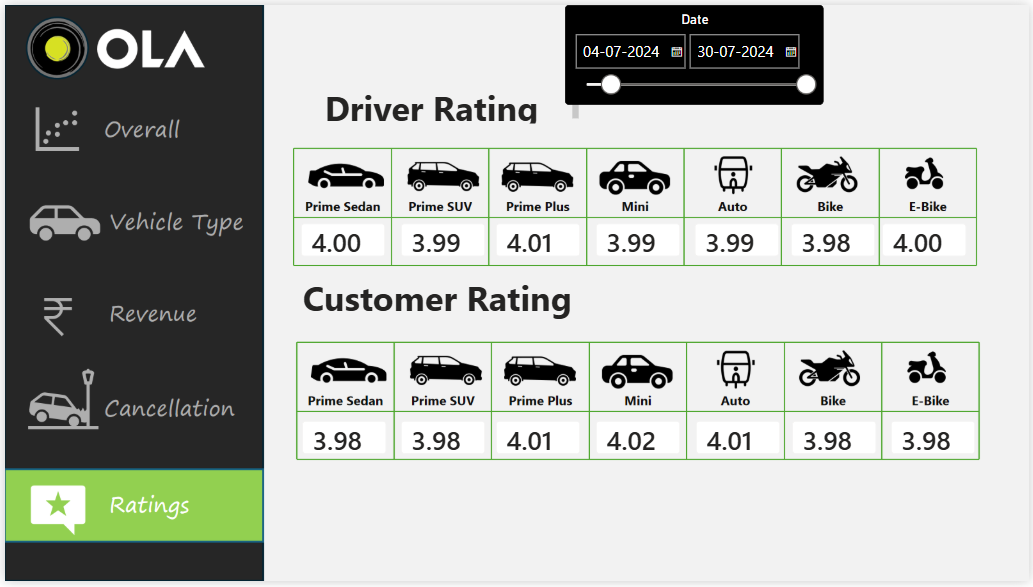

Layout of this report page (visuals, bound fields, positions):
{"tool":"powerbi","page":{"name":"Ratings","canvas":[1280,720],"ordinal":4},"visuals":[{"type":"actionButton","box":[0,112.5,325,79.7],"z":0},{"type":"actionButton","box":[0,217.2,325,101.6],"z":1000},{"type":"actionButton","box":[0,350,325,92.2],"z":2000},{"type":"actionButton","box":[0,467.2,325,87.5],"z":3000},{"type":"cardVisual","fields":{"Data":["Avg(Sheet1.Driver_Ratings)"]},"box":[353.1,256.2,139.1,75],"z":3001},{"type":"cardVisual","fields":{"Data":["Avg(Sheet1.Driver_Ratings)"]},"box":[478.1,256.2,139.1,75],"z":3002},{"type":"cardVisual","fields":{"Data":["Avg(Sheet1.Driver_Ratings)"]},"box":[596.9,256.2,139.1,75],"z":3003},{"type":"cardVisual","fields":{"Data":["Avg(Sheet1.Driver_Ratings)"]},"box":[721.9,256.2,139.1,75],"z":3004},{"type":"cardVisual","fields":{"Data":["Avg(Sheet1.Driver_Ratings)"]},"box":[845.3,256.2,139.1,75],"z":3005},{"type":"cardVisual","fields":{"Data":["Avg(Sheet1.Driver_Ratings)"]},"box":[1079.7,256.2,139.1,75],"z":3006},{"type":"cardVisual","fields":{"Data":["Avg(Sheet1.Driver_Ratings)"]},"box":[965.6,256.2,139.1,75],"z":3007},{"type":"cardVisual","fields":{"Data":["Avg(Sheet1.Customer_Rating)"]},"box":[354.7,503.1,139.1,75],"z":3008},{"type":"textbox","box":[353.1,93.8,368.8,59.4],"z":3009},{"type":"textbox","box":[367.2,331.2,354.7,79.7],"z":3010},{"type":"cardVisual","fields":{"Data":["Avg(Sheet1.Customer_Rating)"]},"box":[721.9,503.1,139.1,75],"z":3011},{"type":"cardVisual","fields":{"Data":["Avg(Sheet1.Customer_Rating)"]},"box":[846.9,503.1,139.1,75],"z":3012},{"type":"cardVisual","fields":{"Data":["Avg(Sheet1.Customer_Rating)"]},"box":[967.2,503.1,139.1,75],"z":3013},{"type":"cardVisual","fields":{"Data":["Avg(Sheet1.Customer_Rating)"]},"box":[1090.6,503.1,139.1,75],"z":3014},{"type":"cardVisual","fields":{"Data":["Avg(Sheet1.Customer_Rating)"]},"box":[478.1,503.1,139.1,75],"z":3015},{"type":"cardVisual","fields":{"Data":["Avg(Sheet1.Customer_Rating)"]},"box":[596.9,503.1,139.1,75],"z":3016},{"type":"slicer","title":"Date","fields":{"Values":["Sheet1.Date"]},"box":[700,0,323.4,125],"z":3017}]}

Visuals, with their boxes in screenshot pixels (x1, y1, x2, y2), scaled from the page's 1280x720 canvas onto the 1033x587 screenshot:
actionButton: locate(0, 92, 262, 157)
actionButton: locate(0, 177, 262, 260)
actionButton: locate(0, 285, 262, 361)
actionButton: locate(0, 381, 262, 452)
cardVisual - Avg(Sheet1.Driver_Ratings): locate(285, 209, 397, 270)
cardVisual - Avg(Sheet1.Driver_Ratings): locate(386, 209, 498, 270)
cardVisual - Avg(Sheet1.Driver_Ratings): locate(482, 209, 594, 270)
cardVisual - Avg(Sheet1.Driver_Ratings): locate(583, 209, 695, 270)
cardVisual - Avg(Sheet1.Driver_Ratings): locate(682, 209, 794, 270)
cardVisual - Avg(Sheet1.Driver_Ratings): locate(871, 209, 984, 270)
cardVisual - Avg(Sheet1.Driver_Ratings): locate(779, 209, 892, 270)
cardVisual - Avg(Sheet1.Customer_Rating): locate(286, 410, 399, 471)
textbox: locate(285, 76, 583, 125)
textbox: locate(296, 270, 583, 335)
cardVisual - Avg(Sheet1.Customer_Rating): locate(583, 410, 695, 471)
cardVisual - Avg(Sheet1.Customer_Rating): locate(683, 410, 796, 471)
cardVisual - Avg(Sheet1.Customer_Rating): locate(781, 410, 893, 471)
cardVisual - Avg(Sheet1.Customer_Rating): locate(880, 410, 992, 471)
cardVisual - Avg(Sheet1.Customer_Rating): locate(386, 410, 498, 471)
cardVisual - Avg(Sheet1.Customer_Rating): locate(482, 410, 594, 471)
"Date" slicer: locate(565, 0, 826, 102)
